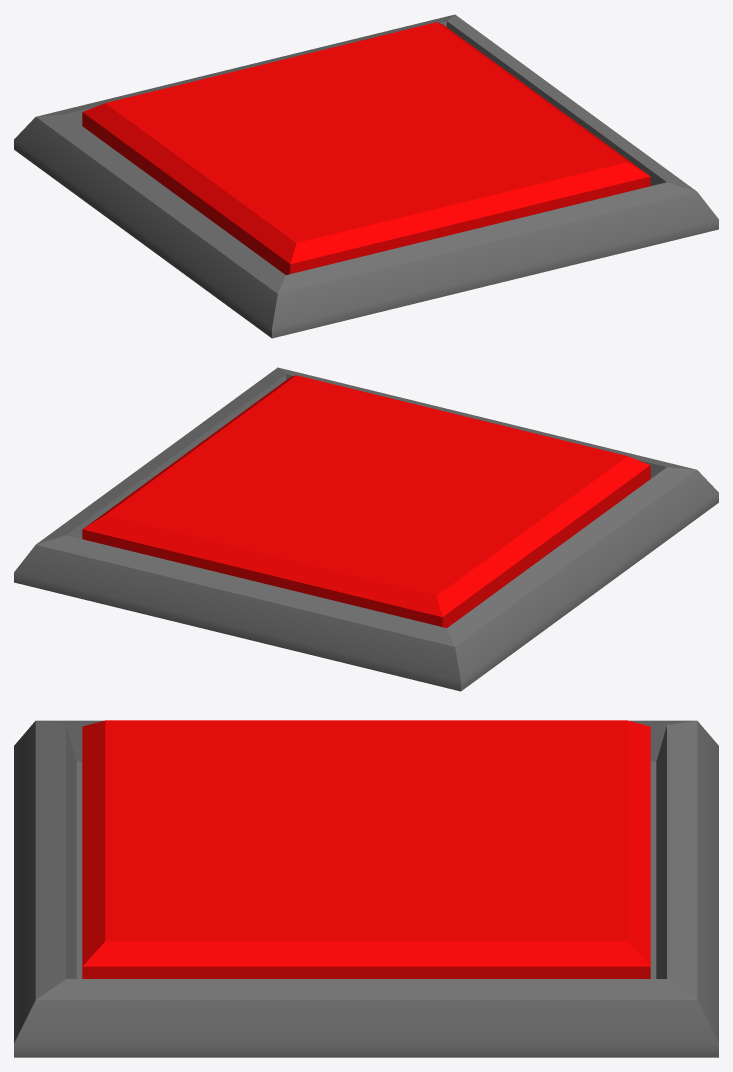
File: Pressure Plate.fbx
3 renders of one model, top to bottom at view 1: azimuth 30°, elevation 25°; view 2: azimuth 150°, elevation 25°; view 3: azimuth 270°, elevation 25°, orthographic. The views are drawn at different scales.
Parts seen in each view (by area): view 1: Button, Base; view 2: Button, Base; view 3: Button, Base.
Part boxes in pixels (<box>): Button: <box>82,22,650,274</box>; Base: <box>14,14,718,338</box>; Button: <box>82,375,650,627</box>; Base: <box>14,367,718,691</box>; Button: <box>82,720,650,978</box>; Base: <box>14,720,718,1057</box>.
Bounding box in the file's own units: 1 × 0.1216 × 1.
